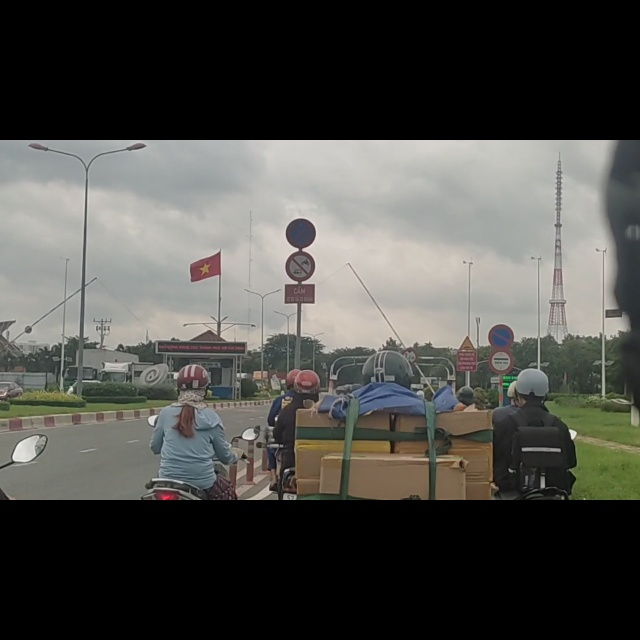bien_nguy_hiem: (286, 198, 317, 251), (285, 140, 317, 191), (487, 327, 513, 370), (489, 370, 513, 415), (458, 348, 475, 373), (403, 372, 417, 398)
